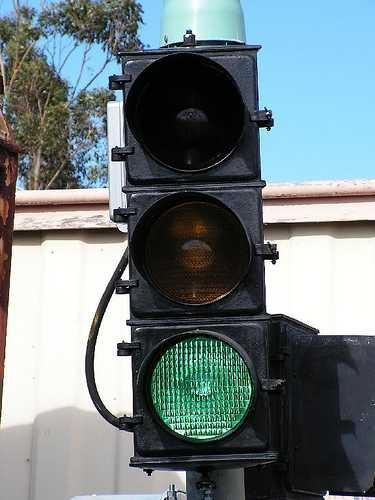green: (126, 53, 264, 457), (140, 324, 264, 451)
